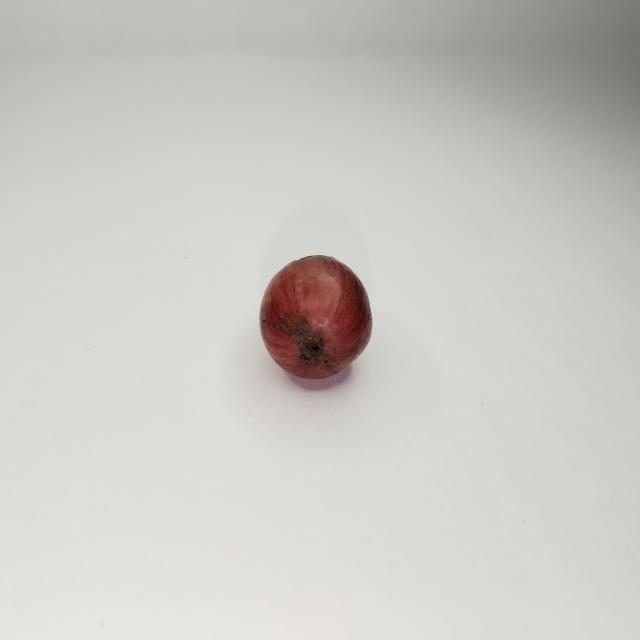Infectado: (260, 255, 373, 380)
